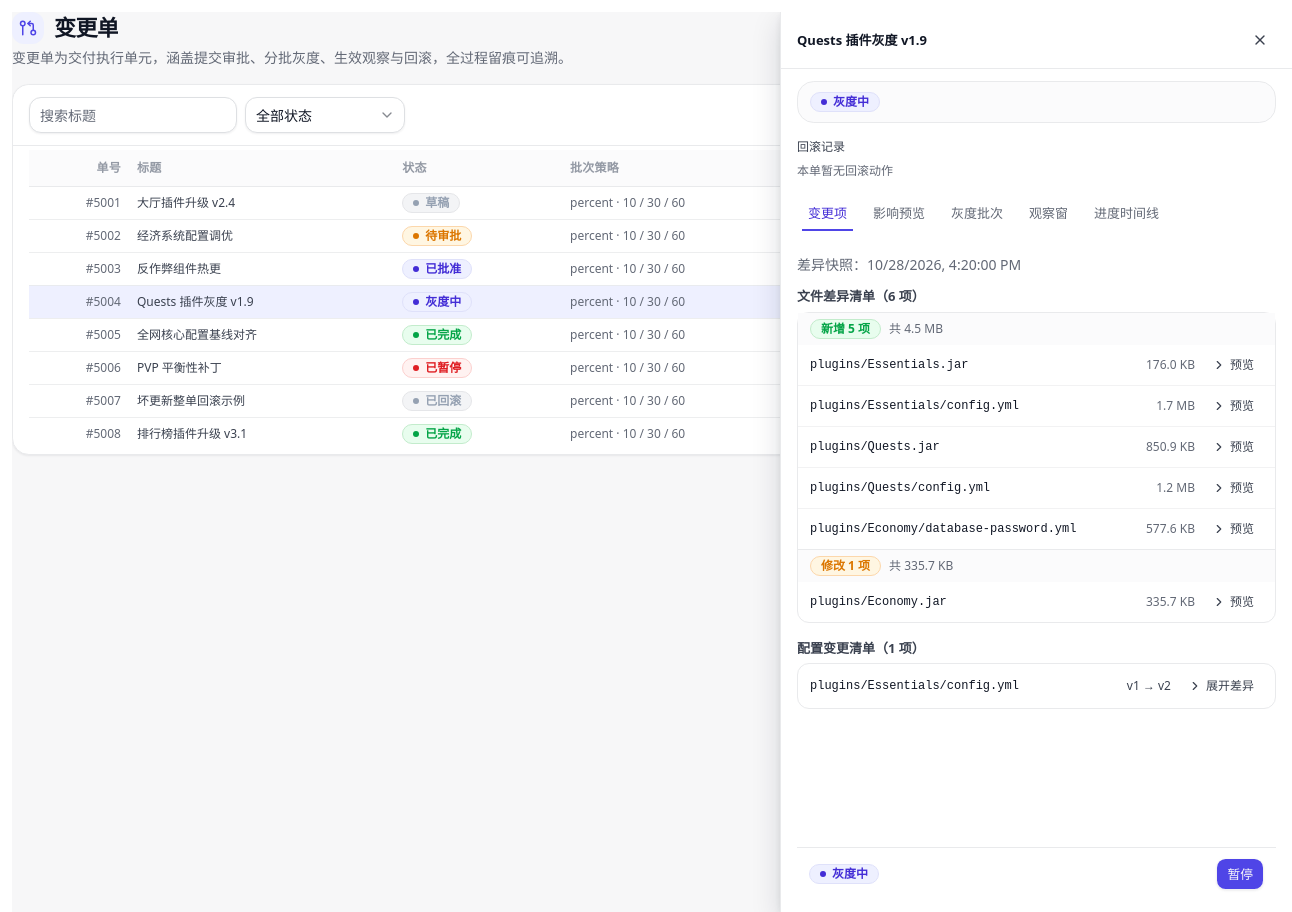
变更单进度事件 SSE › SSE 实时推送：流内事件进入时间线，并标注「实时推送中」
Check: the button named "返回列表" is shown, box [1244,24,1276,56]
Click the tab "进度时间线" at {"x": 1127, "y": 213}, box [1083,195,1170,231]
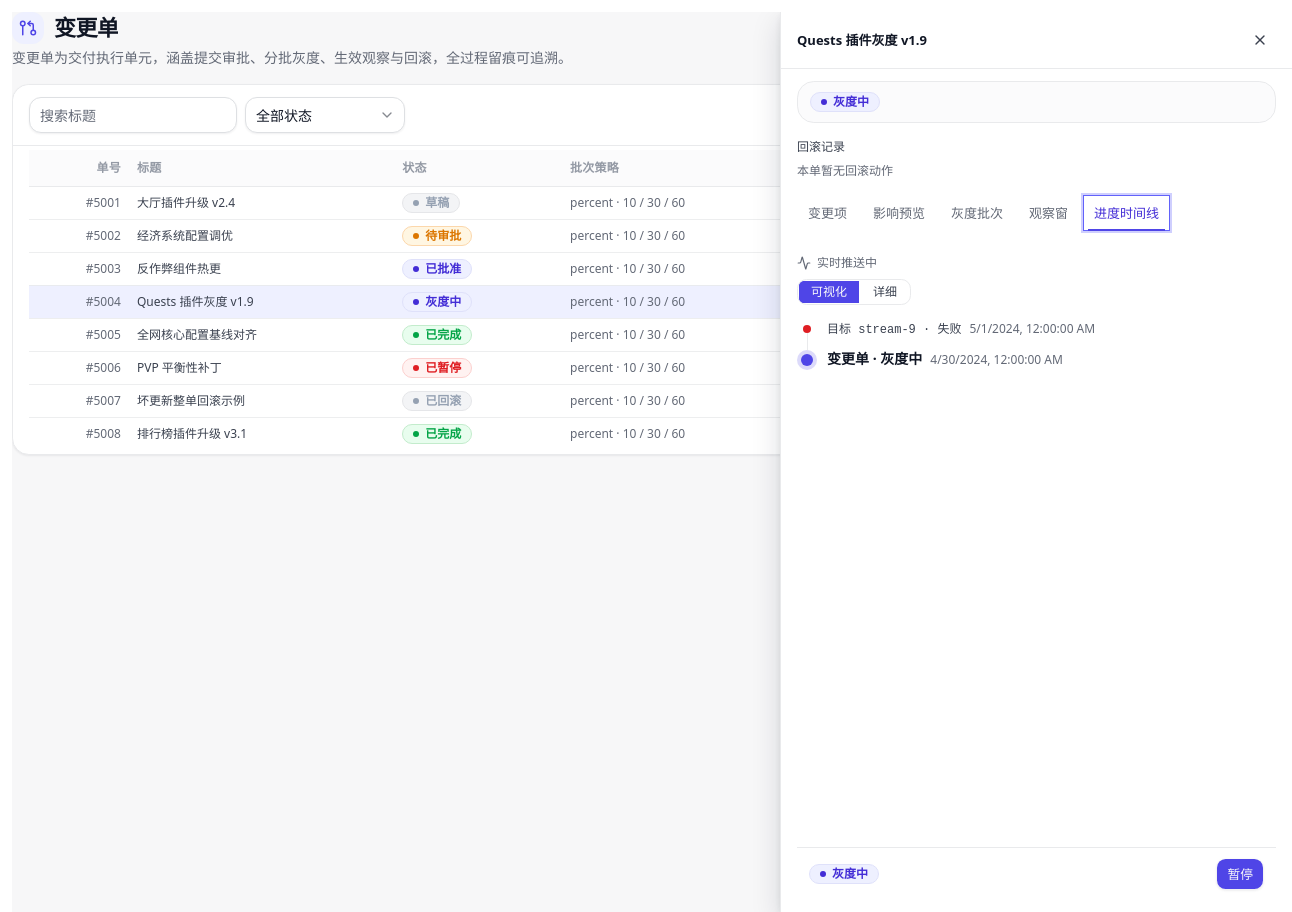
Check: the text "目标 stream-9 · 失败" is shown, box [827,322,961,338]
Check: the text "实时推送中" is shown, box [797,254,877,271]
